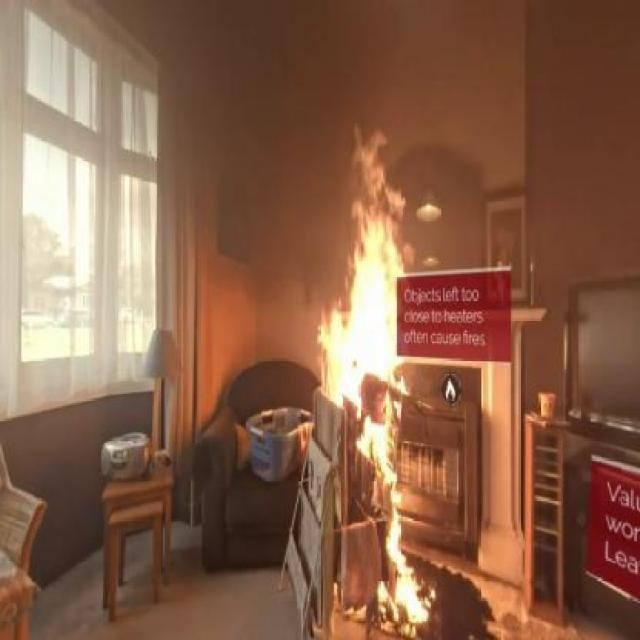fire: (333, 137, 400, 388)
